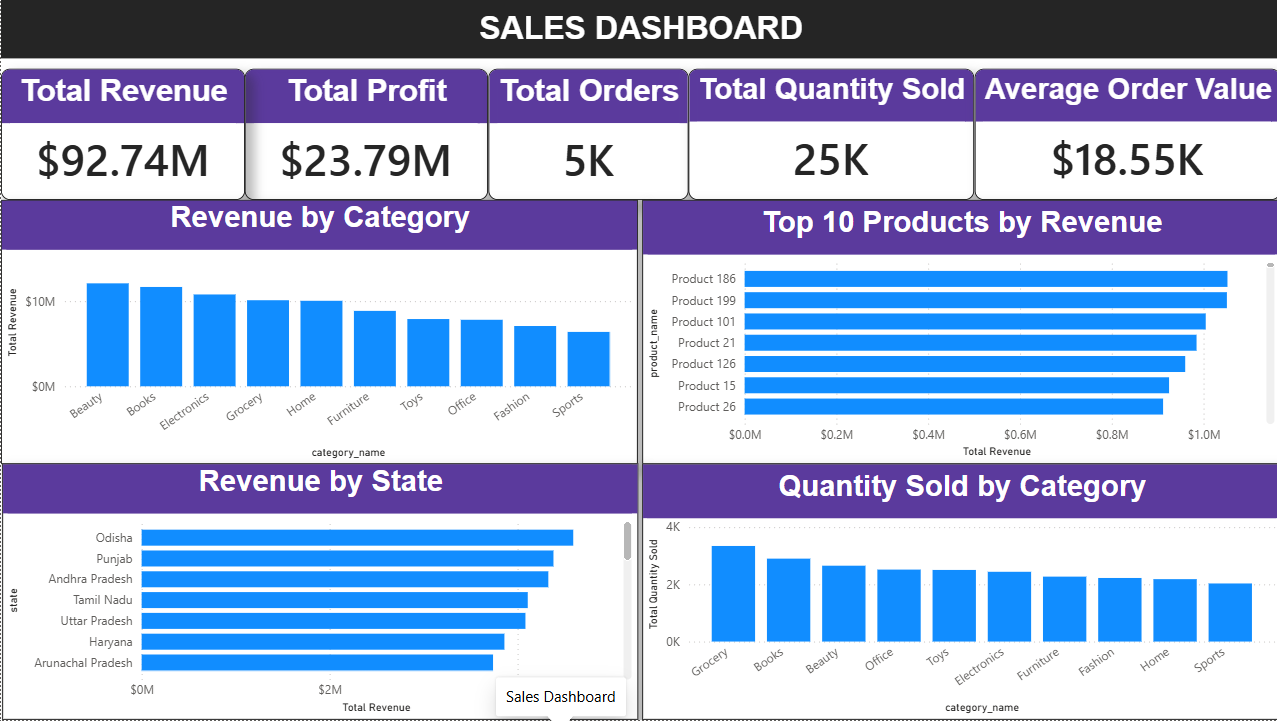

Layout of this report page (visuals, bound fields, positions):
{"tool":"powerbi","page":{"name":"Sales Dashboard","canvas":[1280,720],"ordinal":2},"visuals":[{"type":"cardVisual","title":"Total Profit","fields":{"Data":["Measures (2).Total Profit"]},"box":[244.3,68.6,242.9,131.4],"z":0},{"type":"cardVisual","title":"Total Orders","fields":{"Data":["Measures (2).Total Orders"]},"box":[487.1,68.6,200,131.4],"z":1000},{"type":"cardVisual","title":"Total Quantity Sold","fields":{"Data":["Measures (2).Total Quantity Sold"]},"box":[687.1,68.6,285.7,131.4],"z":2000},{"type":"textbox","title":"SALES DASHBOARD","box":[0,0,1280,58.6],"z":3000},{"type":"cardVisual","title":"Total Revenue","fields":{"Data":["Measures (2).Total Revenue"]},"box":[0,68.6,244.3,131.4],"z":4000},{"type":"cardVisual","title":"Average Order Value","fields":{"Data":["Measures (2).Average Order Value"]},"box":[974.3,68.6,305.7,131.4],"z":5000},{"type":"clusteredColumnChart","title":"Revenue by Category","fields":{"Category":["public categories.category_name"],"Y":["Measures (2).Total Revenue"]},"box":[0,200,637.1,264.3],"z":6000},{"type":"clusteredBarChart","title":"Top 10 Products by Revenue","fields":{"Category":["public products.product_name"],"Y":["Measures (2).Total Revenue"]},"box":[641.4,200,638.6,264.3],"z":7000},{"type":"clusteredBarChart","title":"Revenue by State","fields":{"Category":["public customers.state"],"Y":["Measures (2).Total Revenue"]},"box":[1.4,464.3,635.7,255.7],"z":8000},{"type":"clusteredColumnChart","title":"Quantity Sold by Category","fields":{"Category":["public categories.category_name"],"Y":["Measures (2).Total Quantity Sold"]},"box":[641,464,639,256],"z":9000}]}

Visuals, with their boxes on the page's 1280x720 design canvas (x1, y1, x2, y2). These are canvas units, not pixel positions in the 1277x721 screenshot, which may show the page scaled, cropped or inside an application window:
"Total Profit" cardVisual: crop(244, 69, 487, 200)
"Total Orders" cardVisual: crop(487, 69, 687, 200)
"Total Quantity Sold" cardVisual: crop(687, 69, 973, 200)
"SALES DASHBOARD" textbox: crop(0, 0, 1280, 59)
"Total Revenue" cardVisual: crop(0, 69, 244, 200)
"Average Order Value" cardVisual: crop(974, 69, 1280, 200)
"Revenue by Category" clusteredColumnChart: crop(0, 200, 637, 464)
"Top 10 Products by Revenue" clusteredBarChart: crop(641, 200, 1280, 464)
"Revenue by State" clusteredBarChart: crop(1, 464, 637, 720)
"Quantity Sold by Category" clusteredColumnChart: crop(641, 464, 1280, 720)
